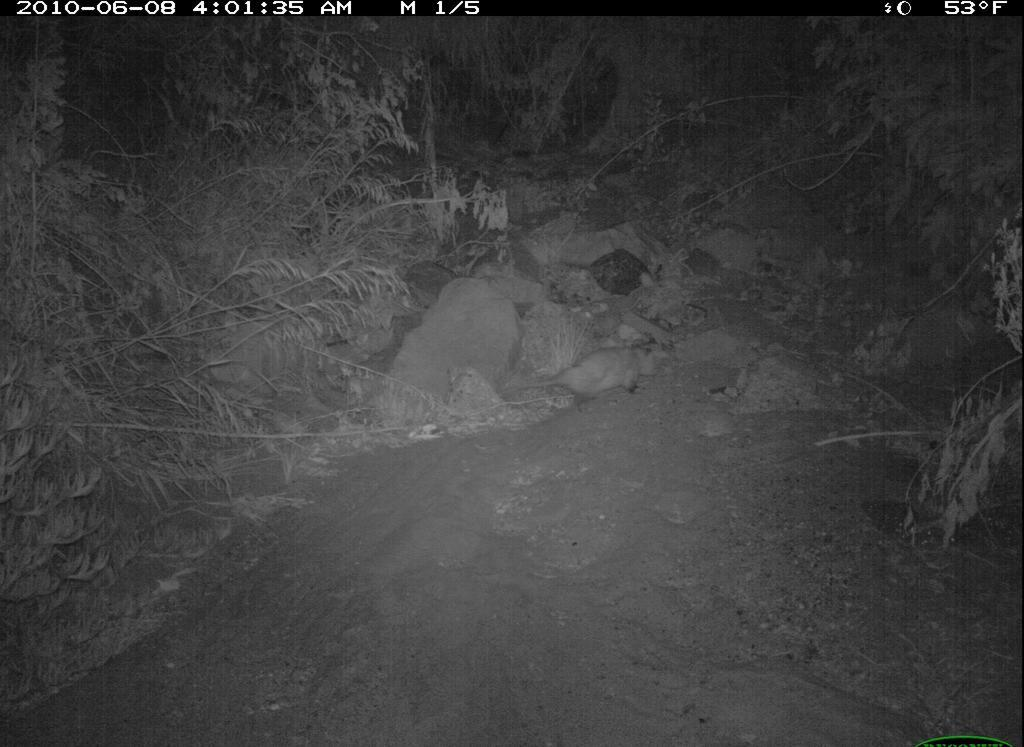opossum: (502, 332, 673, 420)
